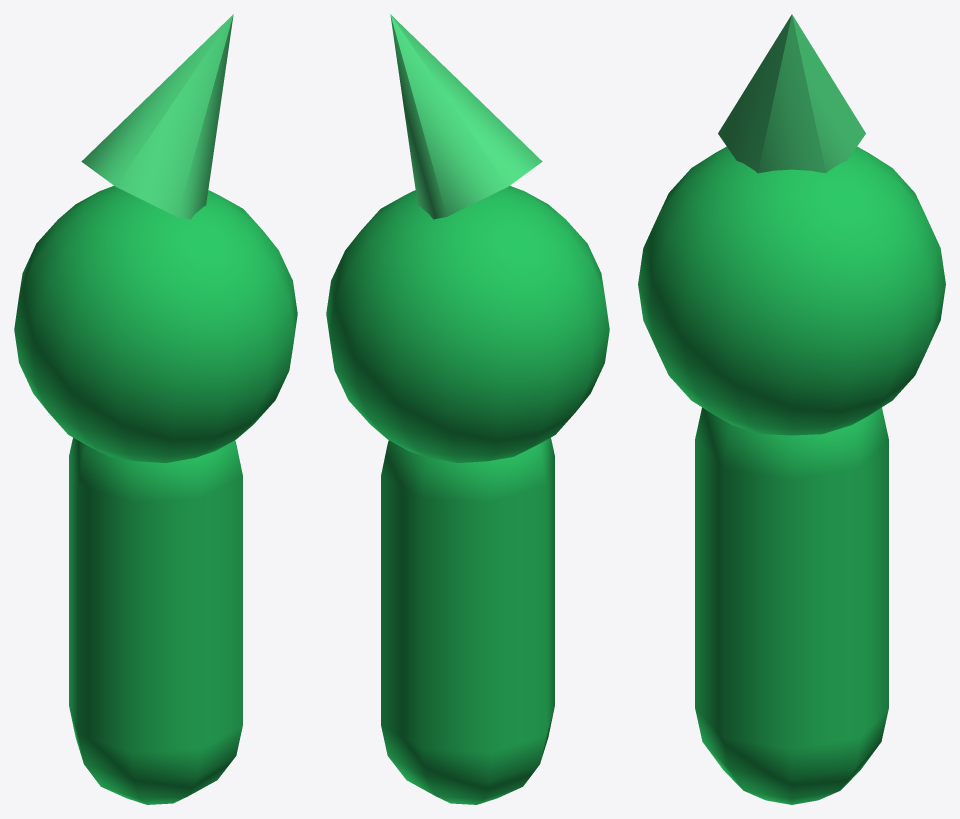
Rendered from creature-nature.glb.
3 views of the same model, side by side, from view 1: azimuth 30°, elevation 25°; view 2: azimuth 150°, elevation 25°; view 3: azimuth 270°, elevation 25° (orthographic). The views are drawn at different scales.
Bounding box in the file's own units: 0.54 × 1.59 × 0.54.
